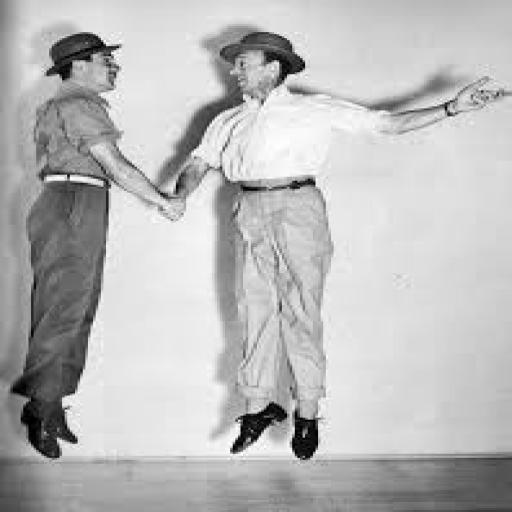dancing: (155, 28, 510, 464), (5, 30, 186, 462)
